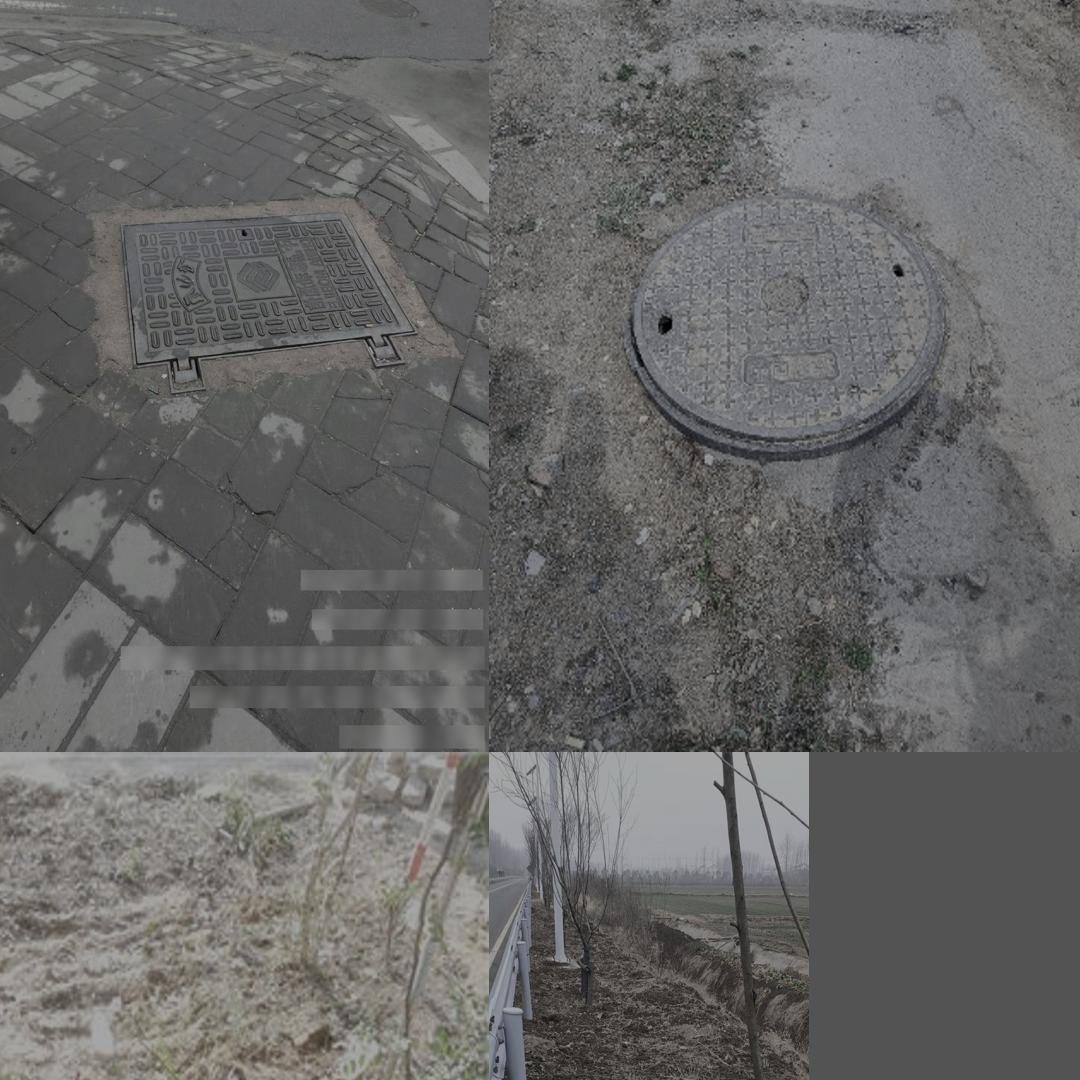good: (622, 193, 944, 459), (122, 208, 420, 395)
